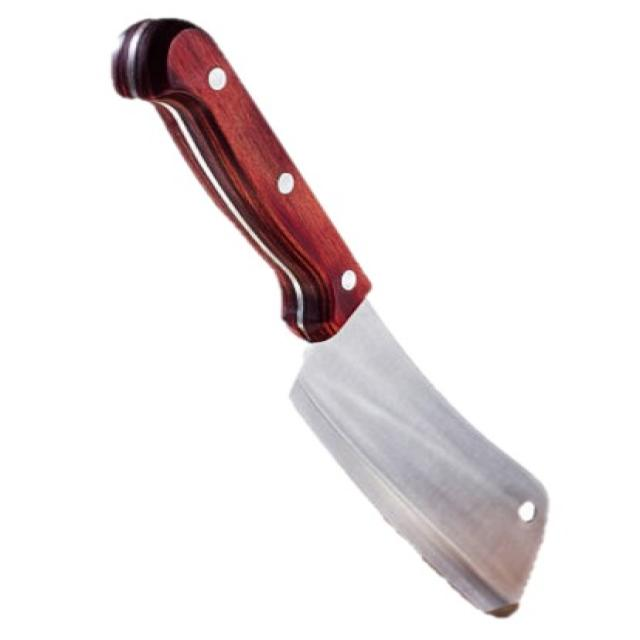knife: (97, 6, 571, 625)
